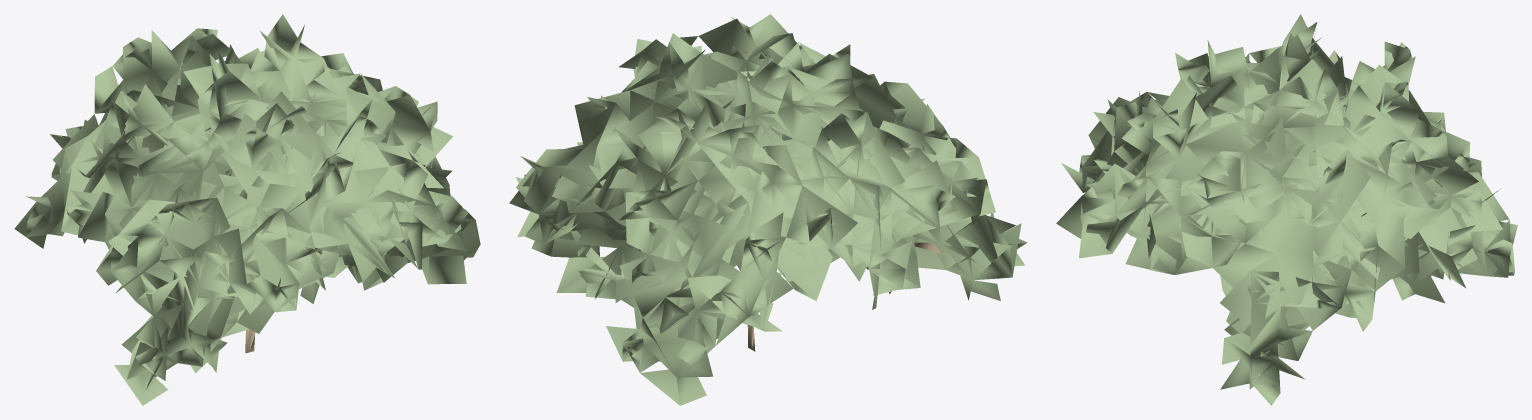
The model's file is plain-tree-far.glb.
3 renders of one model, left to right at view 1: azimuth 30°, elevation 25°; view 2: azimuth 150°, elevation 25°; view 3: azimuth 270°, elevation 25°, orthographic. The views are drawn at different scales.
Bounding box in the file's own units: 22.8 × 16.27 × 22.53.
